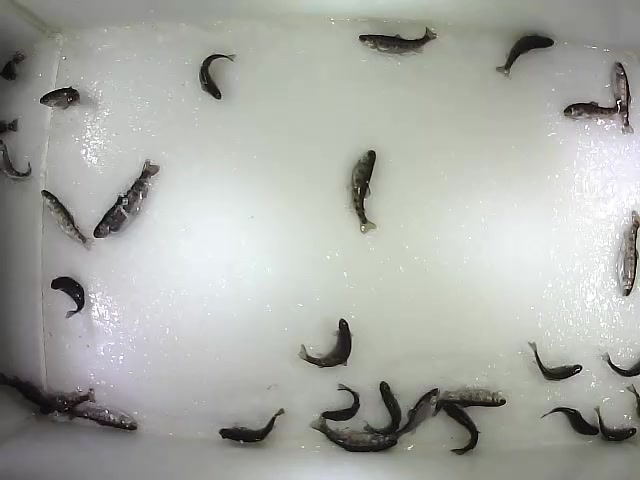fish: (93, 157, 162, 239), (308, 413, 399, 454), (40, 189, 96, 253), (296, 317, 354, 370), (388, 386, 442, 441), (494, 34, 556, 80), (346, 149, 379, 235), (357, 25, 439, 58), (218, 407, 286, 446), (527, 339, 584, 383), (431, 386, 507, 418), (614, 208, 640, 299), (65, 402, 139, 433), (364, 380, 403, 437), (443, 399, 481, 457), (608, 60, 635, 136), (198, 52, 238, 102), (539, 405, 601, 437), (593, 404, 638, 442), (1, 372, 47, 409), (40, 387, 97, 416), (562, 96, 623, 123), (50, 275, 86, 320), (322, 383, 361, 423), (38, 85, 82, 111)
